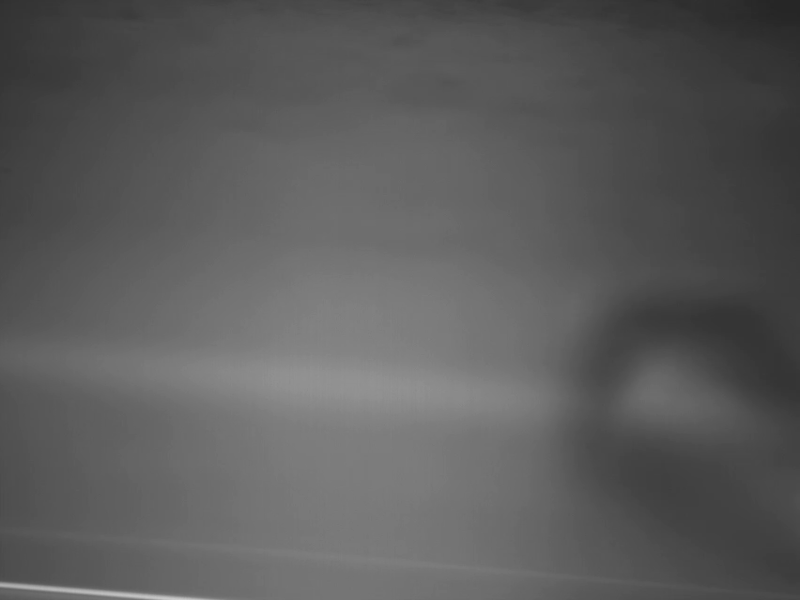bead: (577, 292, 798, 521)
